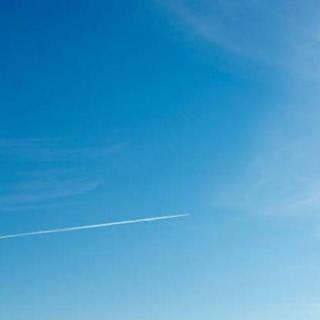Contrails: (0, 184, 216, 258), (170, 0, 320, 106)
